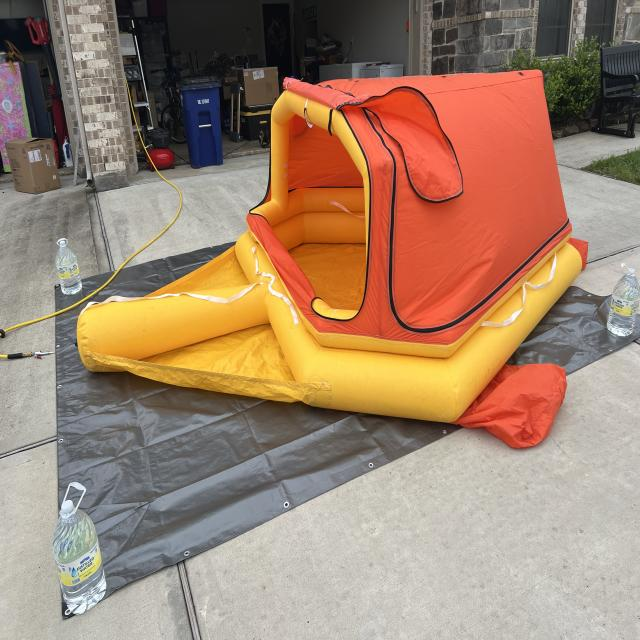Multi-person_life_raft: (77, 66, 587, 450)
